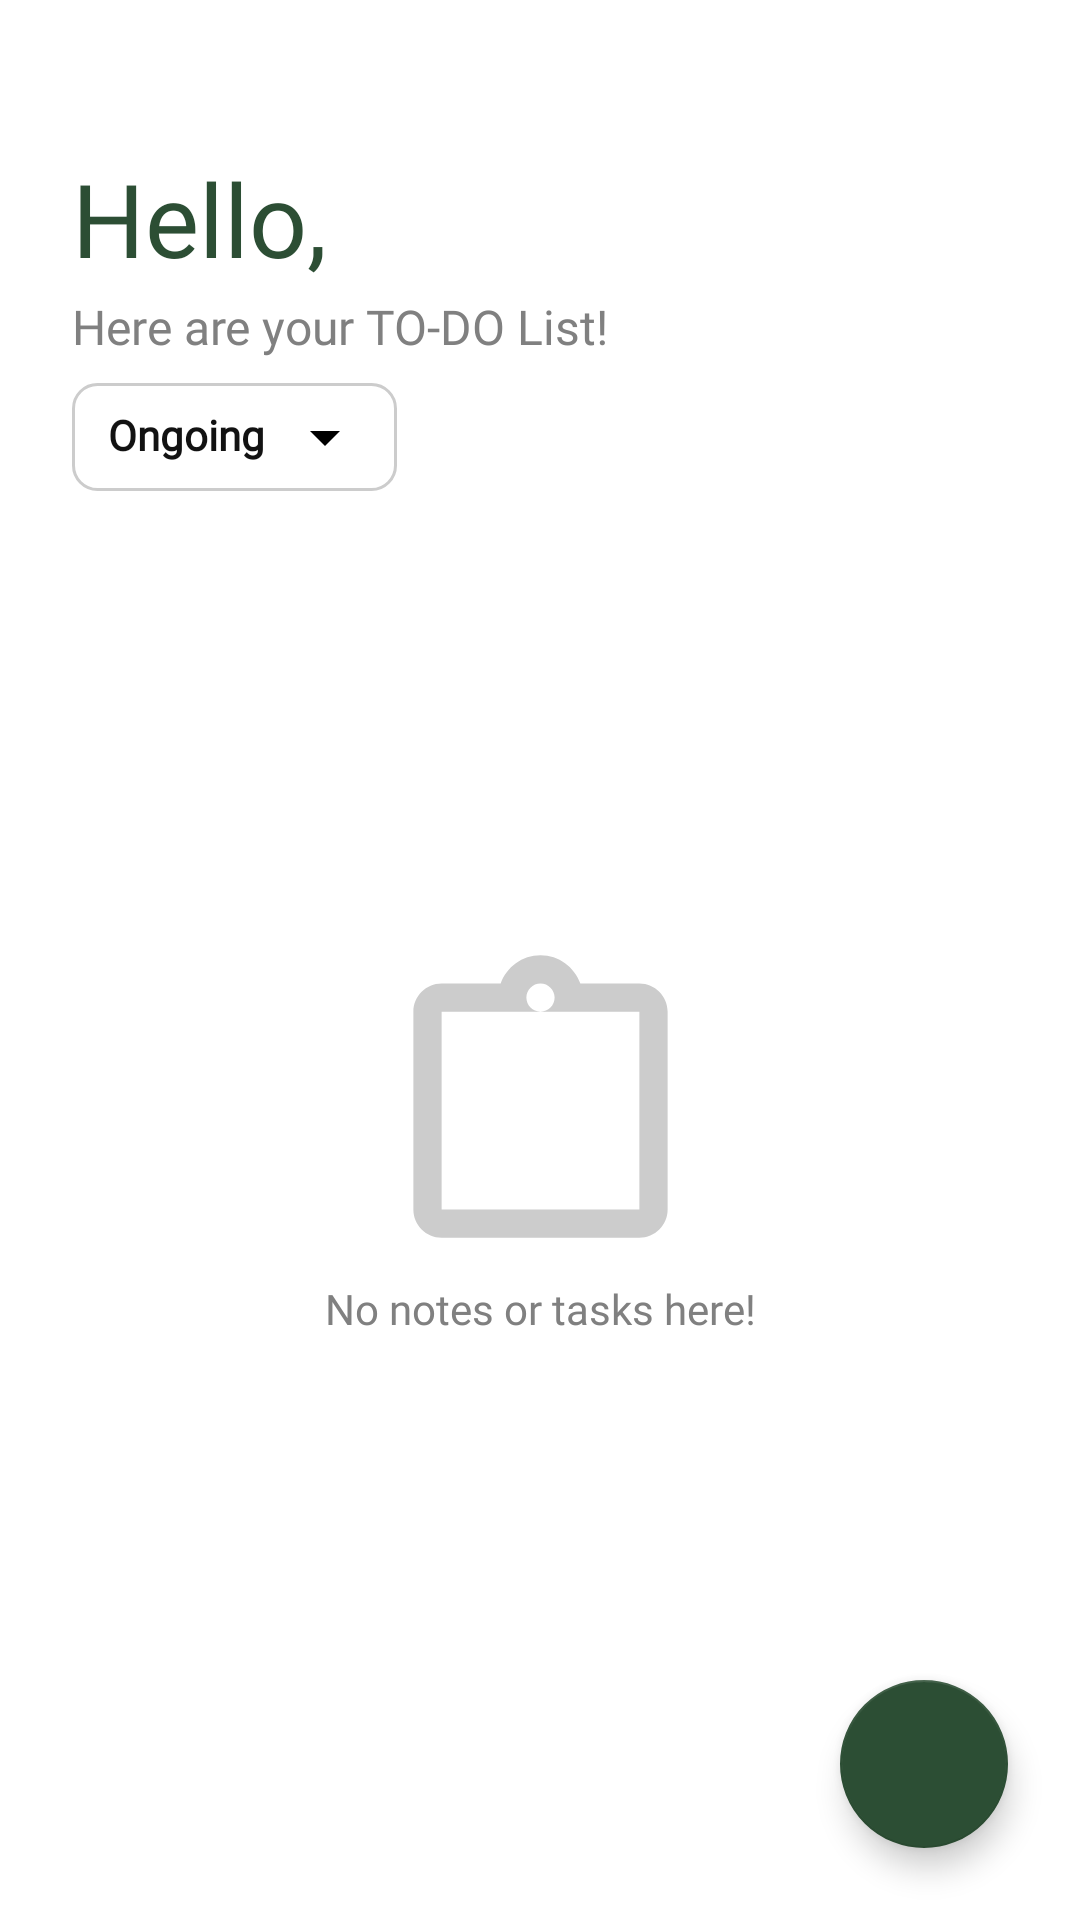

Named icons in this screenshot (1080*1920) and their centers, point (x, y):
clipboard empty: point (540, 1096)
